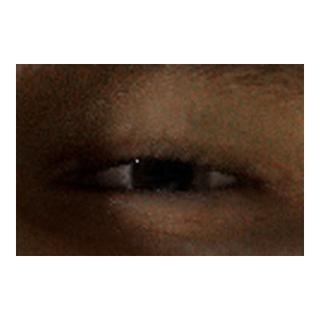pupil: (153, 156, 189, 191)
